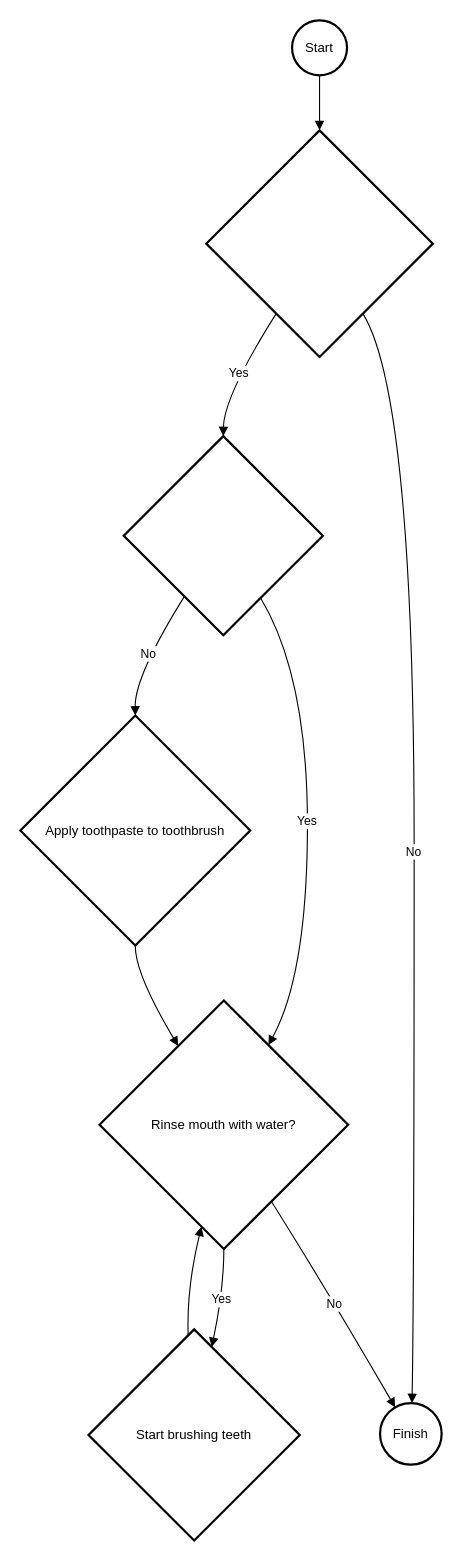
This 461x1560 diagram has some shape labels left out. Each missing label, with the box of its shape:
Is toothbrush in hand?: (205, 129, 433, 358)
Is toothpaste on toothbrush?: (122, 435, 323, 636)
